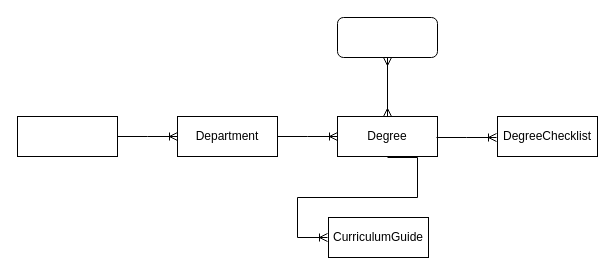
Image size: 615x275. Some labels were removed from this diagram. The shapes that lost their labels are listed below. From the top down, each one's box as (x1, y1, x2, y2) in pixels, then its label:
(336, 16, 438, 58): Course
(16, 116, 118, 156): College
